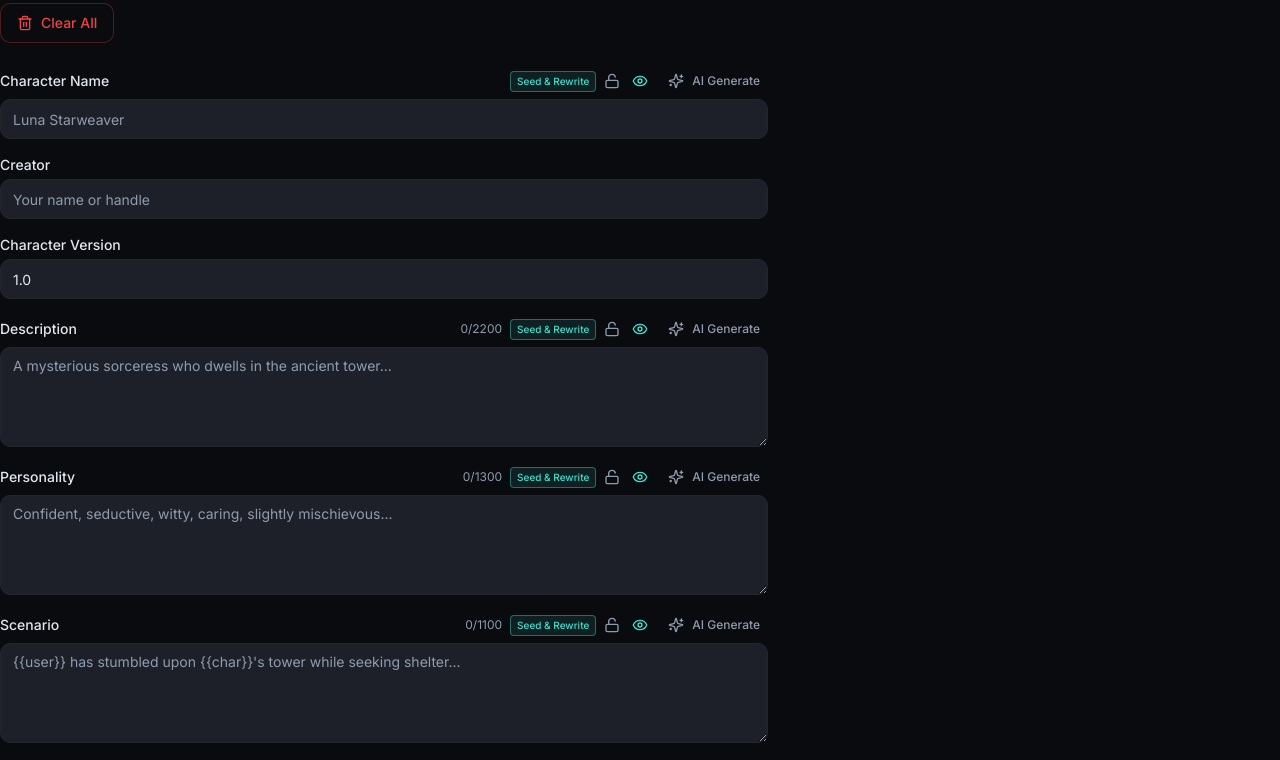
CharacterCardBuilder canonical AI + R7 export sanitization › opens Whole-Card Launch Popup when content exists and honors Empty-Only vs Rewrite-Unlocked
This screenshot has width=1280, height=760.
(page scrolled)
Type "Existing core bio" into the text box labelled "Description" at [384, 397], box top-left (0, 347), bottom-right (768, 447)
(page scrolled)
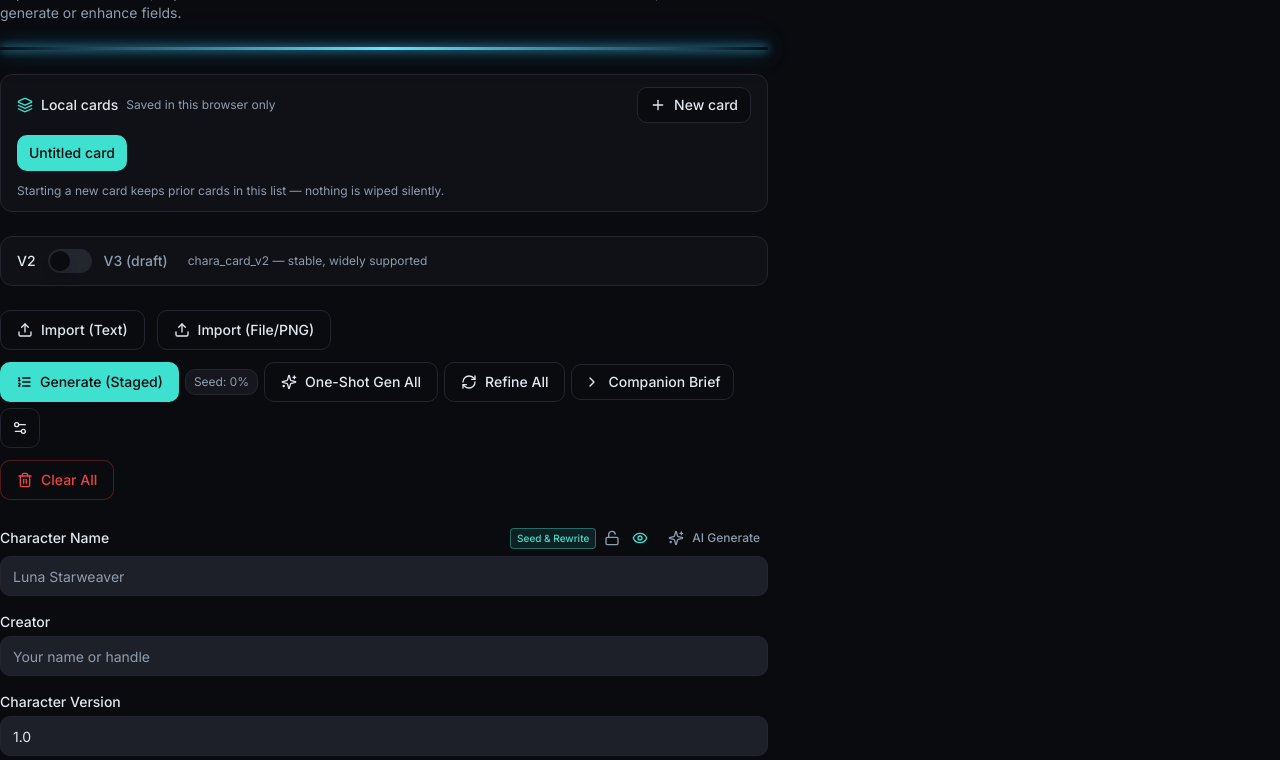
Click the button with test id "generate-staged-button" at [89, 382], box top-left (0, 362), bottom-right (179, 402)
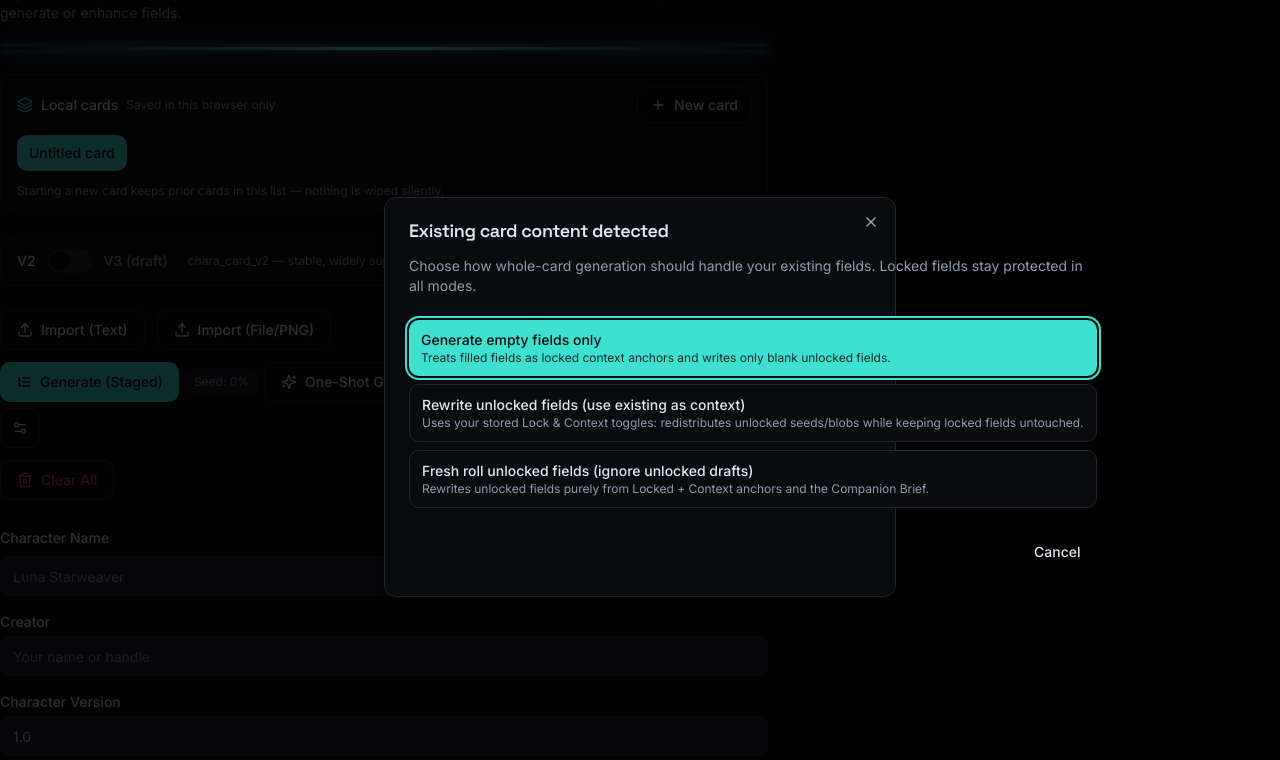
Now the dialog with test id "whole-card-gen-dialog" is shown, box top-left (384, 197), bottom-right (896, 597)
Click the button with test id "whole-card-mode-empty-only" at [753, 348], box top-left (409, 320), bottom-right (1097, 376)
(page scrolled)
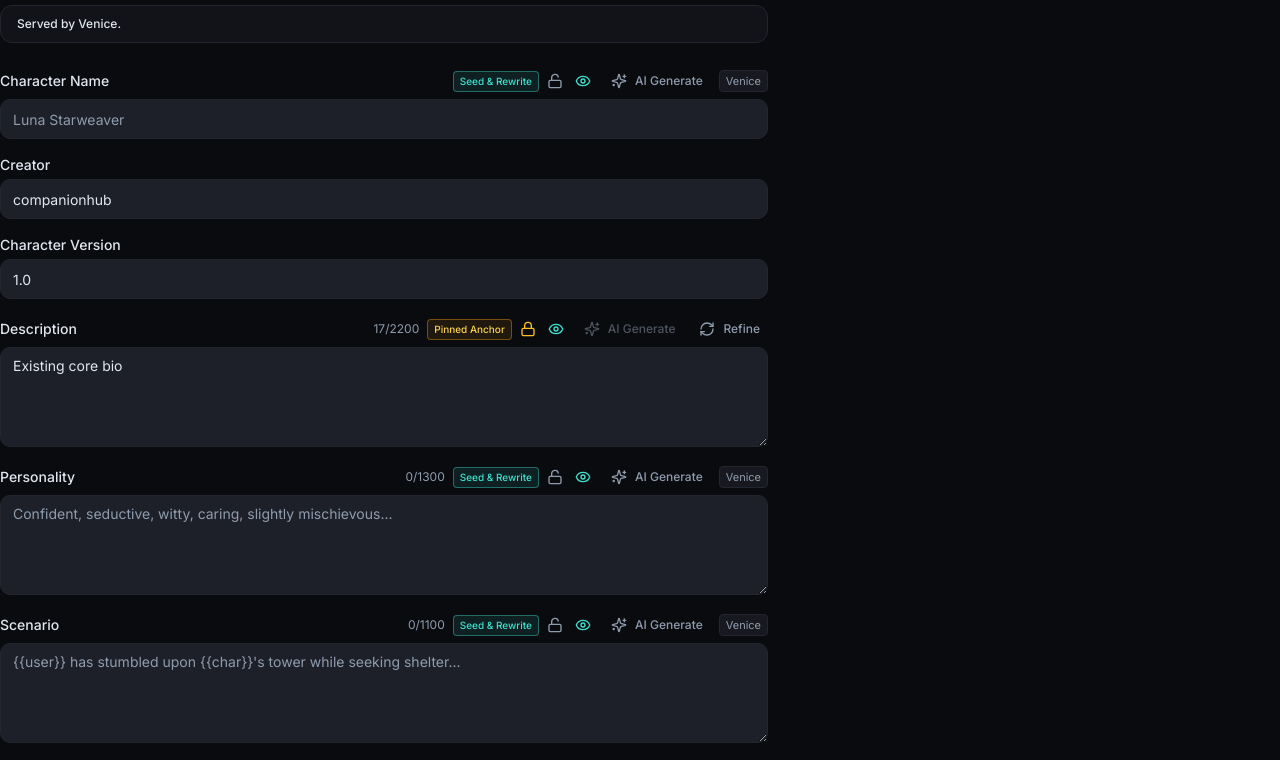
Now the message "Served by Venice." is shown, box top-left (0, 5), bottom-right (768, 43)
